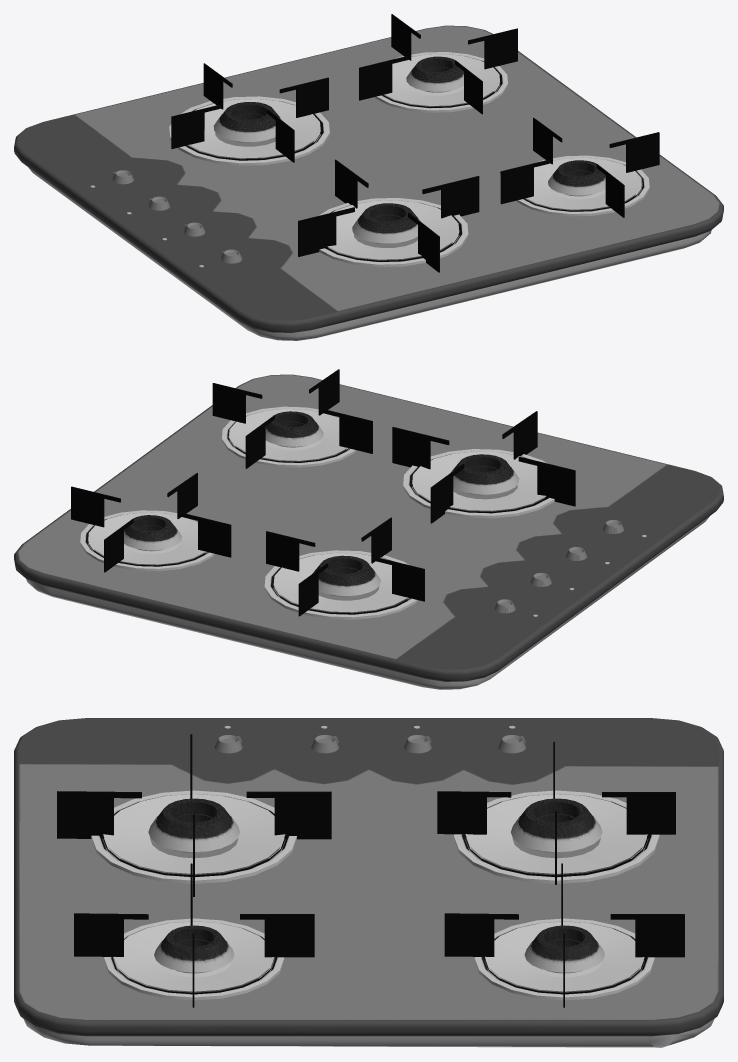
File: gas_stove.glb
3 views of the same model, one above another, from view 1: azimuth 30°, elevation 25°; view 2: azimuth 150°, elevation 25°; view 3: azimuth 270°, elevation 25° (orthographic). The views are drawn at different scales.
Parts seen in each view (by area): view 1: pCube2, pCylinder10, pCylinder9, pCylinder11, pCylinder12, pCube1, pCube9, pCube8, pCube11, pCube14, pCube15, pCube17 (+10 smaller); view 2: pCube2, pCylinder10, pCylinder9, pCylinder11, pCylinder12, pCube1, pCube9, pCube8, pCube11, pCube17, pCube15, pCube14 (+10 smaller); view 3: pCube2, pCylinder10, pCylinder9, pCylinder12, pCylinder11, pCube1, pCube7, pCube10, pCube13, pCube16, pCube18, pCube12 (+2 smaller).
Part boxes in pixels (left/top/right/bottom): pCube2: left=14, top=25, right=723, bottom=332; pCylinder10: left=318, top=198, right=468, bottom=267; pCylinder9: left=169, top=96, right=329, bottom=165; pCylinder11: left=516, top=155, right=649, bottom=216; pCylinder12: left=375, top=52, right=507, bottom=112; pCube1: left=28, top=167, right=711, bottom=340; pCube9: left=298, top=207, right=354, bottom=256; pCube8: left=422, top=176, right=479, bottom=218; pCube11: left=609, top=132, right=659, bottom=172; pCube14: left=500, top=159, right=550, bottom=204; pCube15: left=468, top=28, right=517, bottom=69; pCube17: left=359, top=56, right=408, bottom=100; pCube2: left=14, top=374, right=723, bottom=681; pCylinder10: left=403, top=449, right=554, bottom=518; pCylinder9: left=264, top=550, right=425, bottom=619; pCylinder11: left=222, top=406, right=356, bottom=467; pCylinder12: left=80, top=510, right=214, bottom=571; pCube1: left=26, top=516, right=709, bottom=689; pCube9: left=518, top=456, right=575, bottom=506; pCube8: left=392, top=427, right=449, bottom=469; pCube11: left=212, top=383, right=262, bottom=423; pCube17: left=181, top=513, right=231, bottom=557; pCube15: left=71, top=486, right=120, bottom=527; pCube14: left=323, top=409, right=372, bottom=453; pCube2: left=14, top=718, right=723, bottom=1036; pCylinder10: left=91, top=790, right=296, bottom=883; pCylinder9: left=453, top=790, right=659, bottom=883; pCylinder12: left=474, top=918, right=654, bottom=1000; pCylinder11: left=104, top=918, right=284, bottom=1000; pCube1: left=23, top=1019, right=714, bottom=1047; pCube7: left=246, top=791, right=331, bottom=839; pCube10: left=57, top=791, right=141, bottom=838; pCube13: left=240, top=914, right=314, bottom=957; pCube16: left=444, top=913, right=518, bottom=956; pCube18: left=610, top=914, right=684, bottom=957; pCube12: left=74, top=913, right=148, bottom=956.
Bounding box in the file's own units: 8.29 × 0.9984 × 8.13.
Materials: 1 (1 with a texture image).
